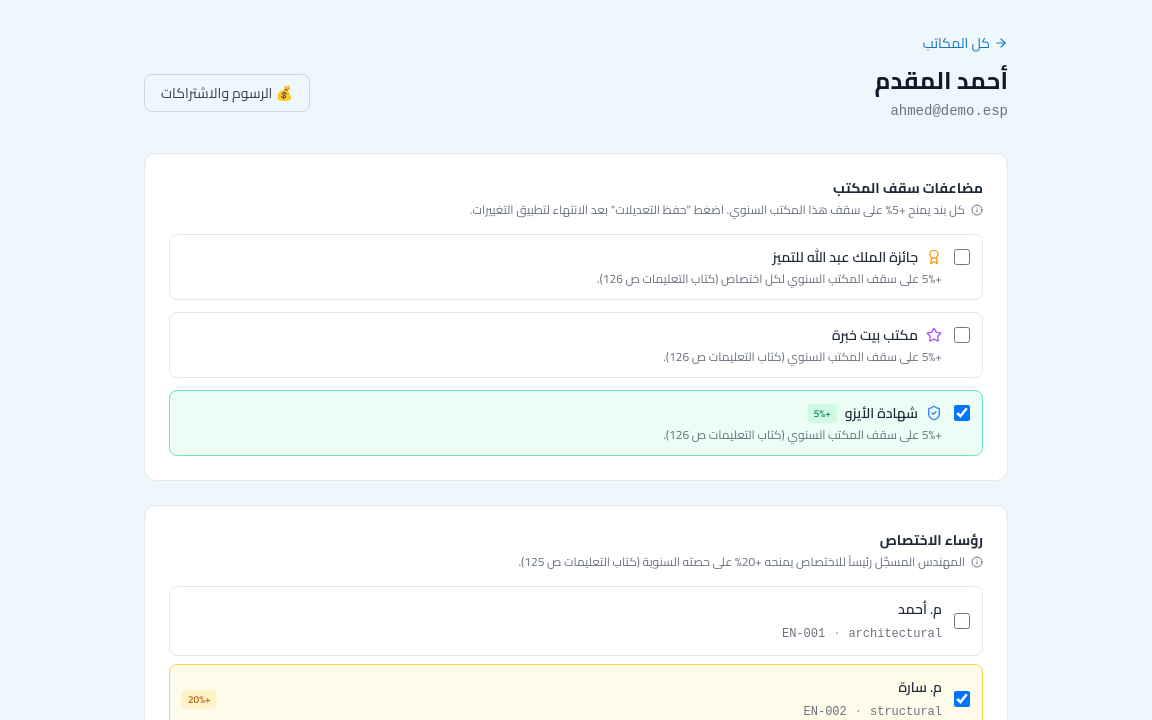
OfficeSettings (JORD-77) › preserves drafts + shows error when save fails
Expected: the label with test id "office-flag-has_excellence_award" is shown, [169,234,983,300]
Click the 1st checkbox: [962, 257] box [954,249,970,265]
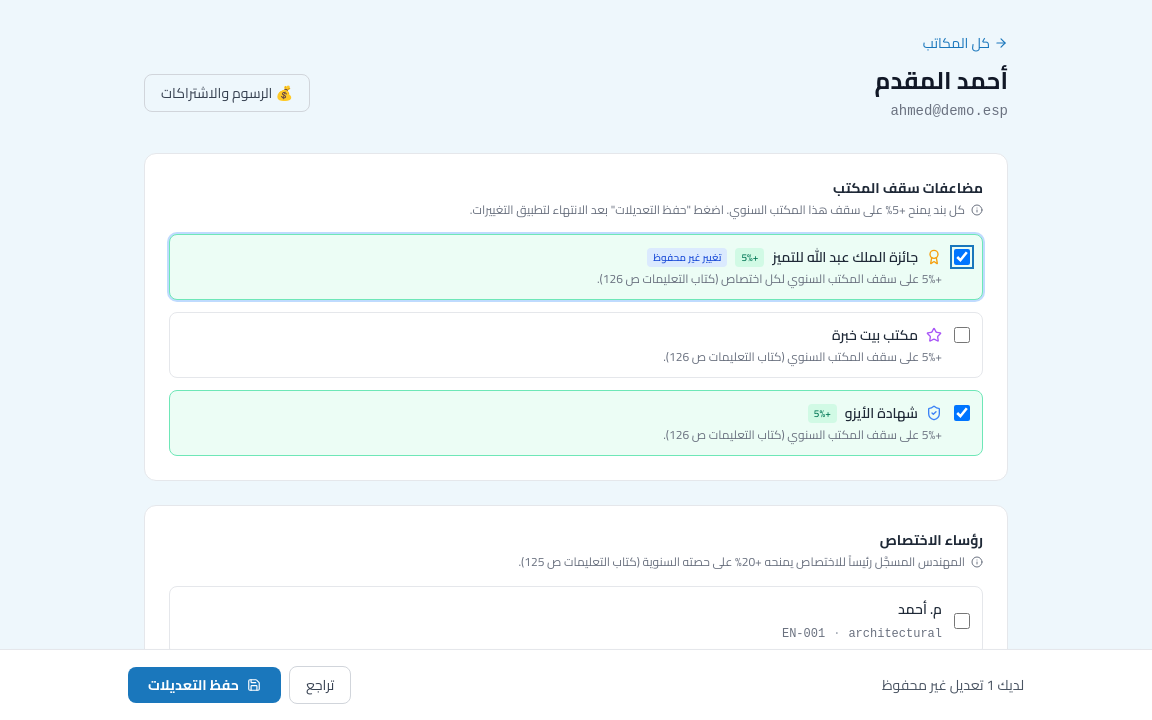
Click the button with test id "save-btn": [204, 685] box [128,667,281,703]
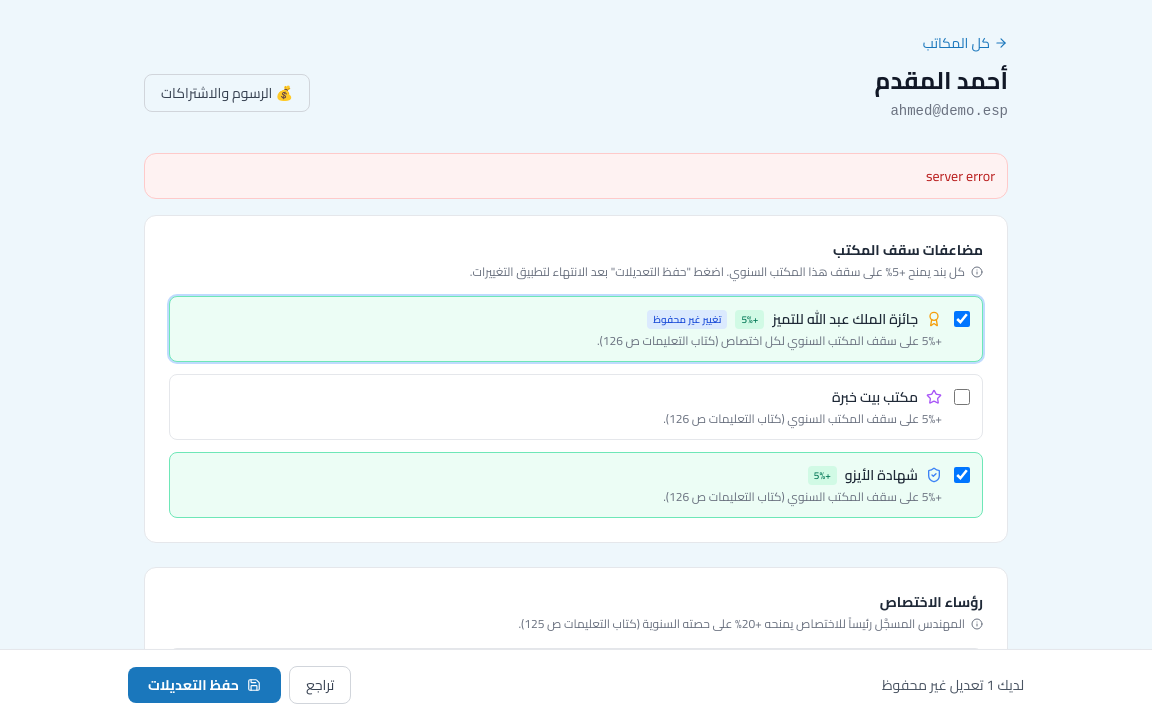
Expected: the 1st checkbox is checked, [954,311,970,327]
Expected: the text "server error" is shown, [144,153,1008,199]
